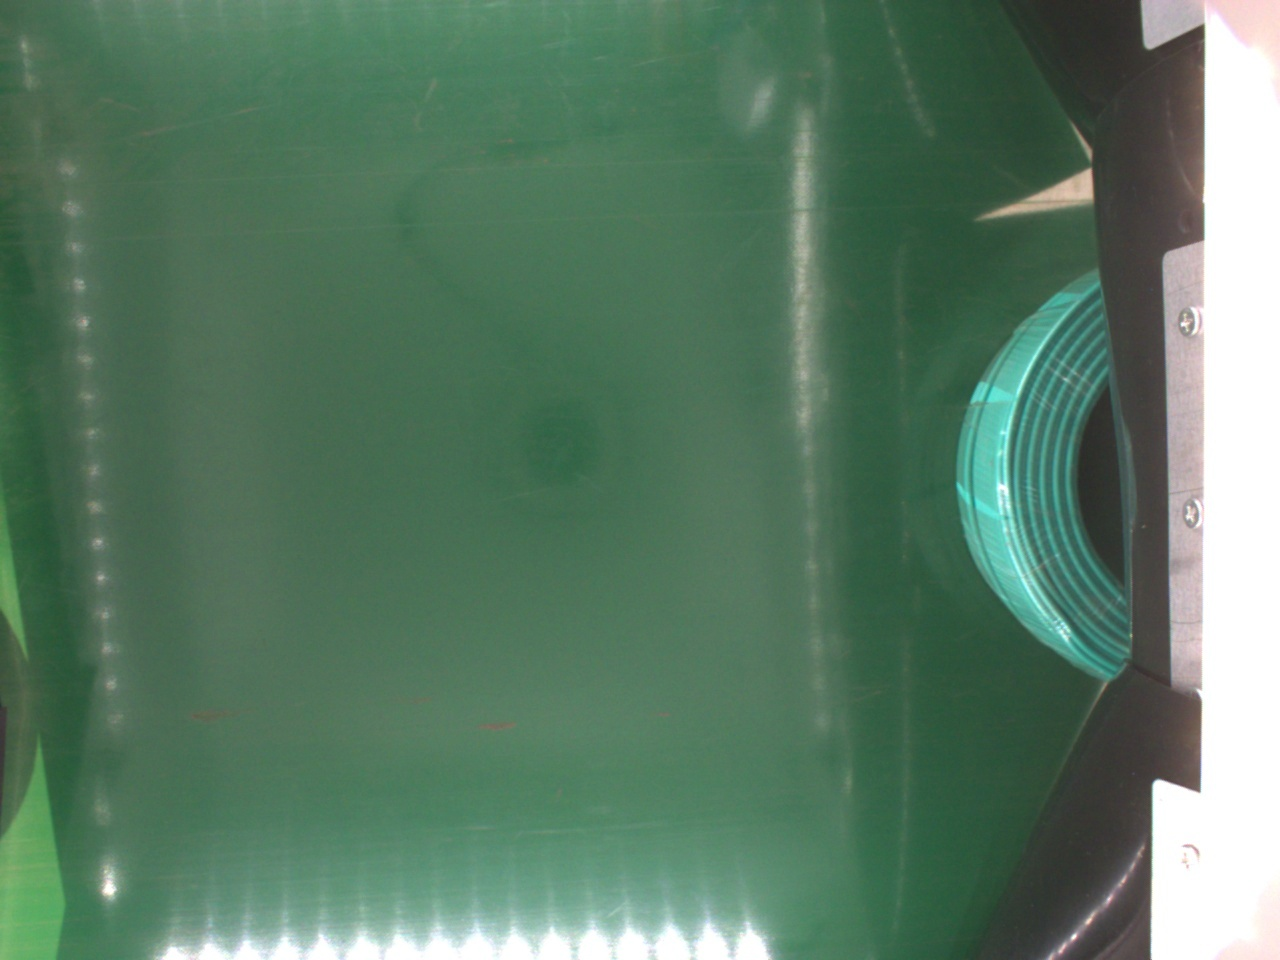green: (954, 265, 1131, 673)
